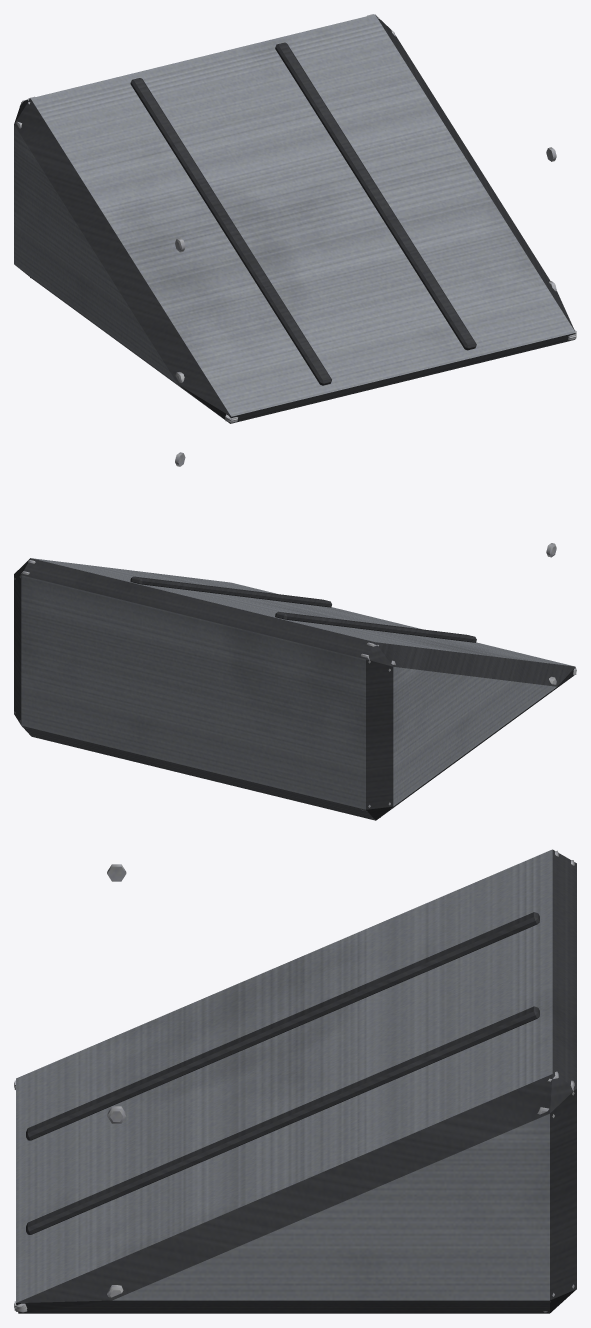
File: R4B_HalfWedge.glb
3 views of the same model, one above another, from view 1: azimuth 30°, elevation 25°; view 2: azimuth 150°, elevation 25°; view 3: azimuth 270°, elevation 25° (orthographic). The views are drawn at different scales.
Visible parts, largest first — view 1: R4B_HalfWedge; view 2: R4B_HalfWedge; view 3: R4B_HalfWedge.
Boxes of the visible parts, left/top/right/bottom form: R4B_HalfWedge: left=14, top=14, right=576, bottom=423; R4B_HalfWedge: left=14, top=452, right=576, bottom=820; R4B_HalfWedge: left=14, top=849, right=576, bottom=1313.
Size of the model in its own units: 0.52 by 0.2348 by 0.5.
Materials: 3 (3 with a texture image).
